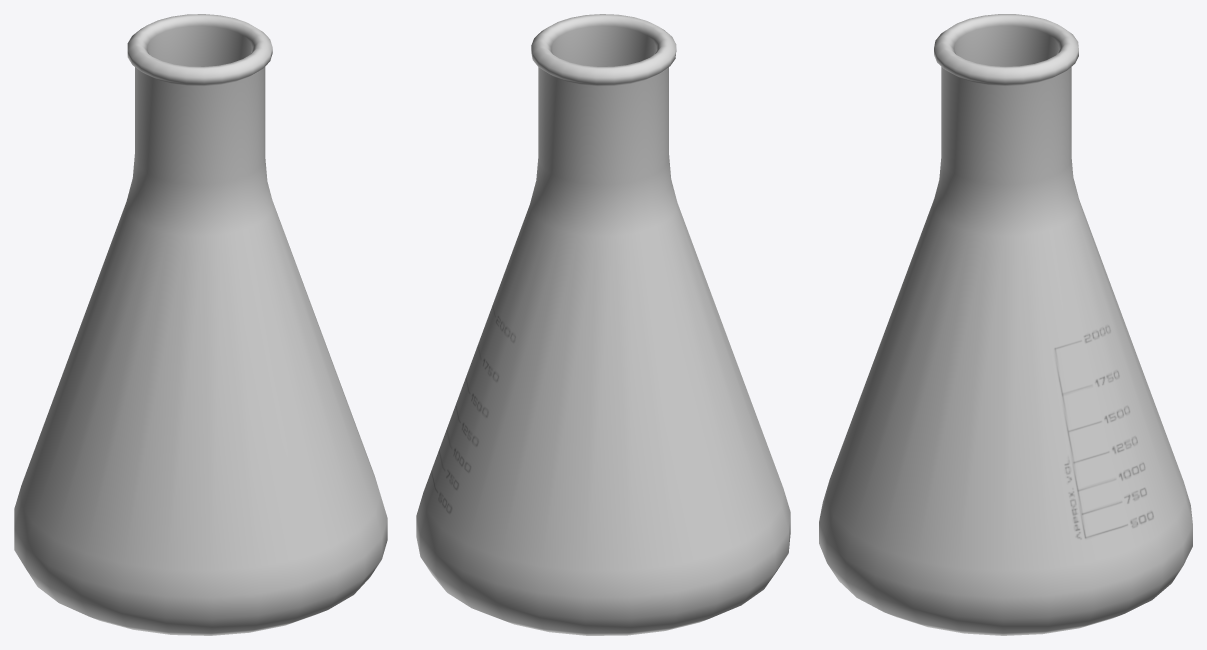
File: conical_flask_big.glb
3 views of the same model, side by side, from view 1: azimuth 30°, elevation 25°; view 2: azimuth 150°, elevation 25°; view 3: azimuth 270°, elevation 25° (orthographic).
Visible parts, largest first — view 1: Conical_flask_big; view 2: Conical_flask_big; view 3: Conical_flask_big.
Part boxes in pixels (x1,y1,x2,y2): Conical_flask_big: (14, 14, 387, 635); Conical_flask_big: (416, 14, 790, 635); Conical_flask_big: (819, 14, 1192, 635).
Bounding box in the file's own units: 0.207 × 0.3226 × 0.2072.
Materials: 2 (1 with a texture image).
